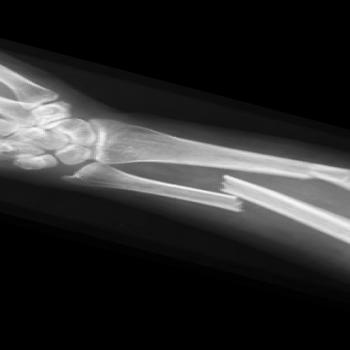Fracture: (205, 173, 254, 223), (284, 157, 333, 188)
